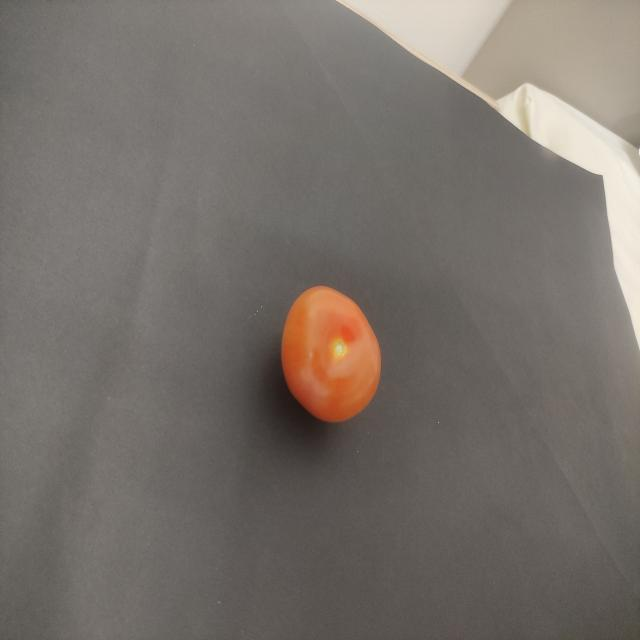sari: (278, 278, 395, 435)
